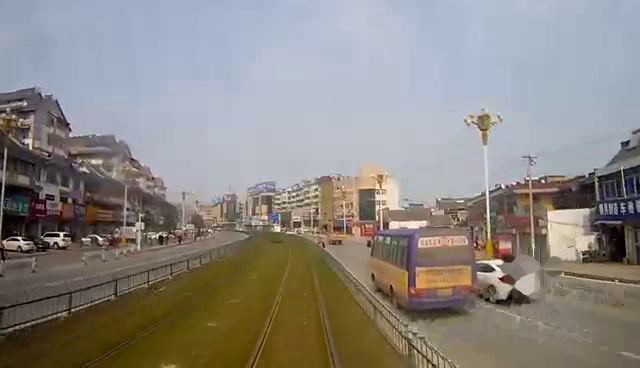bus: (364, 229, 475, 309)
car: (472, 258, 544, 302), (41, 230, 72, 253), (3, 234, 38, 252)
